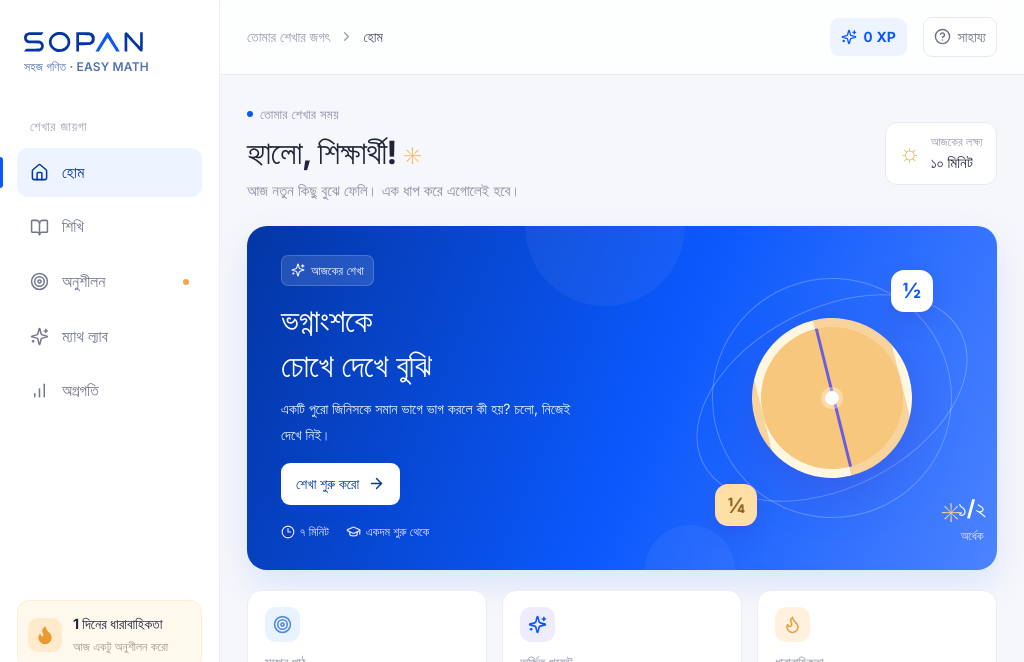
Scenario: Easy Math learning flow › lets learners choose addition or subtraction for decimal operations
Click the button "শিখি".
click(110, 227)  # box [17,202,202,252]
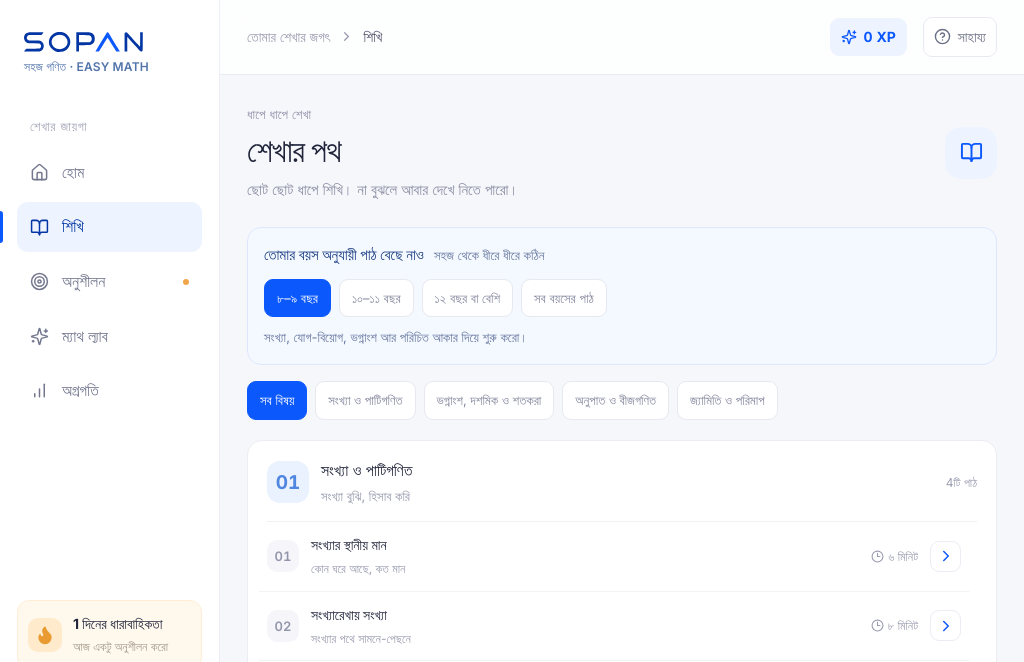
Click the button "সব বয়সের পাঠ".
click(564, 298)  # box [521,279,607,317]
(page scrolled)
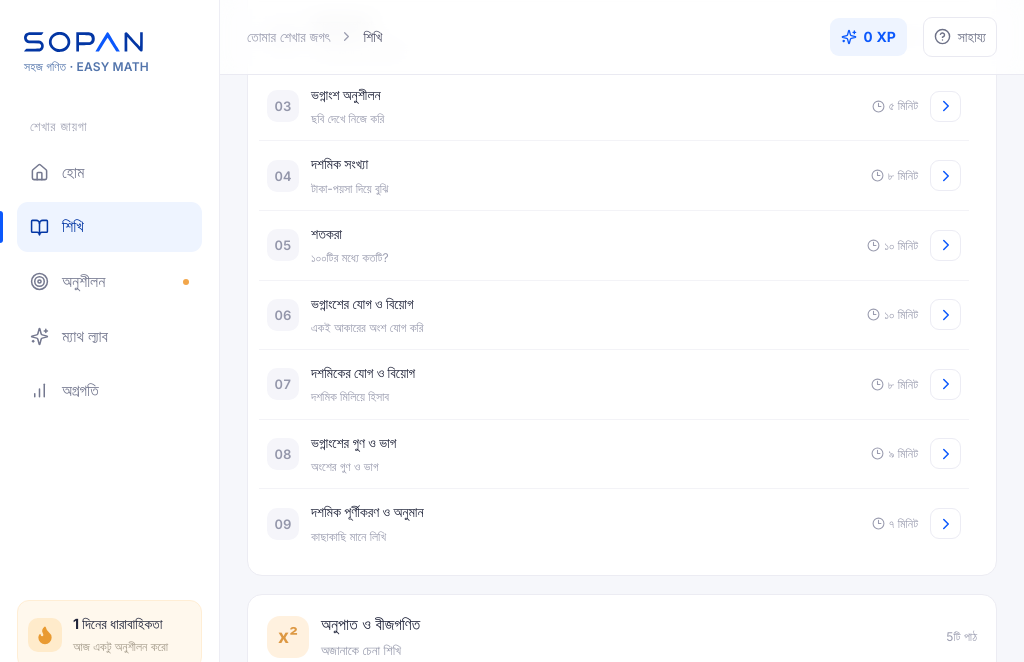
Click the button with aria-label "দশমিকের যোগ ও বিয়োগ খুলুন".
click(283, 384)  # box [259,350,969,420]
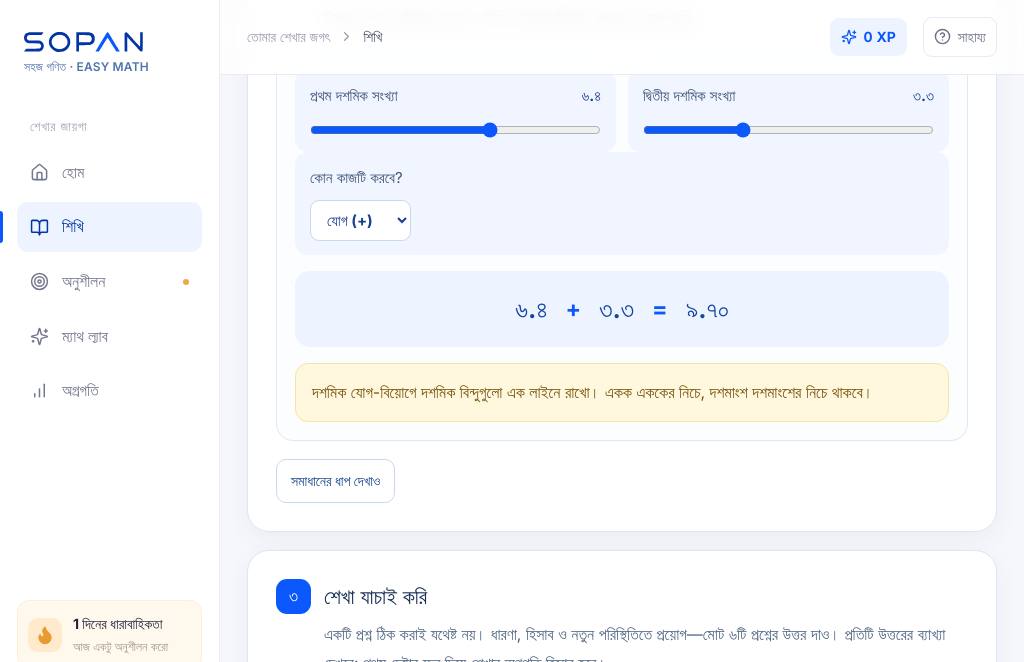
Result: the dropdown named "দশমিকের ক্রিয়া" shows "যোগ (+)"
Select "বিয়োগ (−)" in the dropdown named "দশমিকের ক্রিয়া" at (360, 221), box [310,200,411,241]
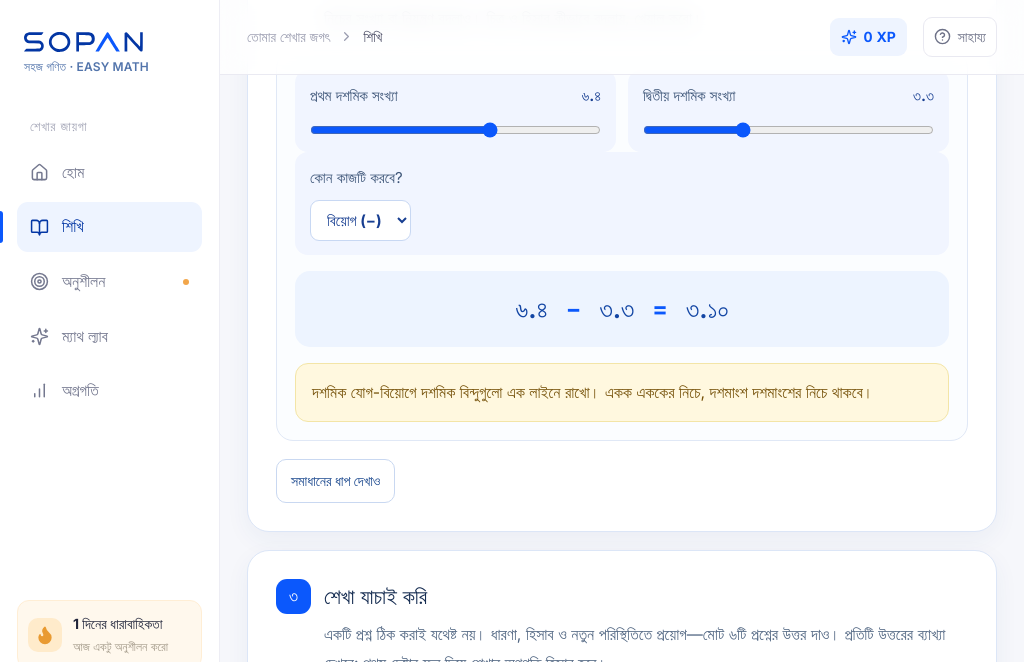
Result: the text "৬.৪" is shown 2 times at [581,84,601,108]; [515,289,548,329]
Result: the text "৩.৩" is shown 2 times at [913,84,934,108]; [599,289,634,329]
Result: the text "৩.১০" is shown at [686,289,729,329]
